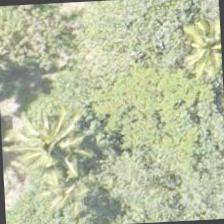Kelapa_Sawit: (11, 102, 106, 196), (151, 0, 223, 92)
